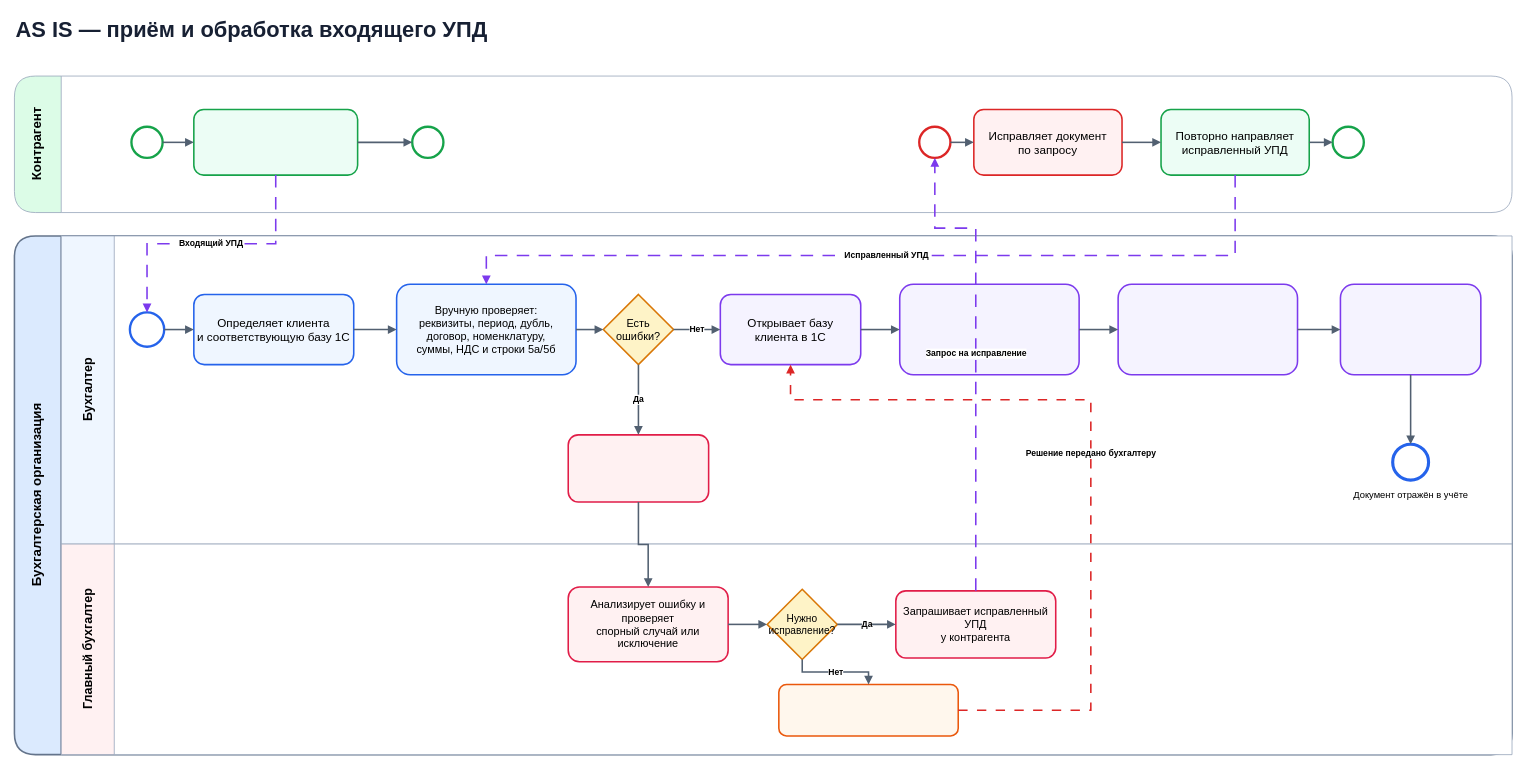
Image size: 1526x768. Some labels were removed from this diagram. The shapes that lost their labels are listed below. From the top down, each one's centre as x and y in pixels, then its label:
[275,142]: Подготавливает и направляет УПД через ЭДО или почту
[146,329]: УПД получен
[989,329]: Вручную находит контрагента, договор и номенклатуру в справочниках 1С
[1207,329]: Создаёт документ «Поступление товаров/услуг» и заполняет поля
[1410,329]: Проверяет суммы, НДС и счета учёта, проводит документ в 1С
[638,468]: Передаёт документ и описание проблемы главному бухгалтеру
[868,709]: Определяет допустимый способ отражения в учёте
